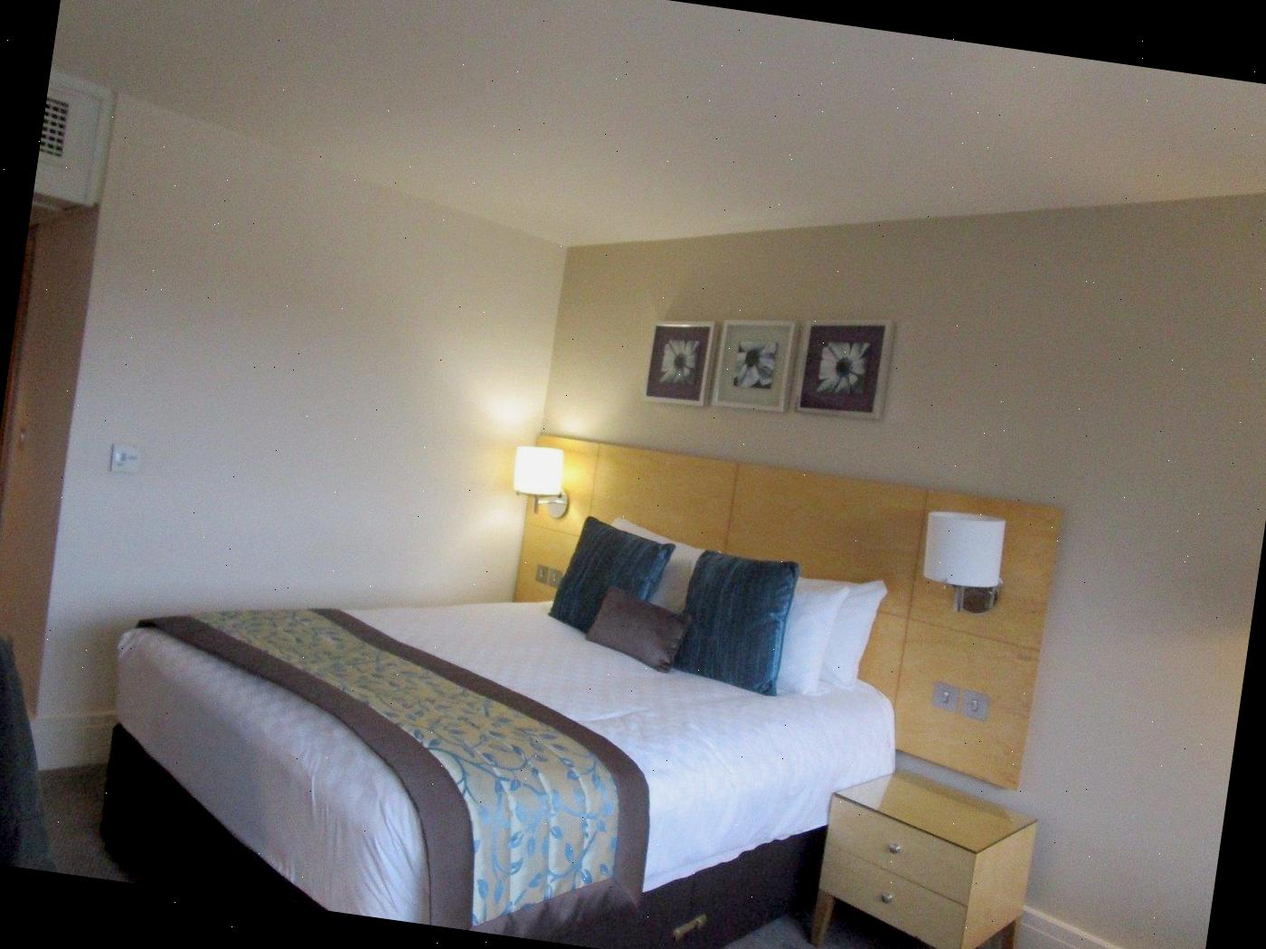clean_bed: (109, 500, 896, 914)
lamp: (902, 495, 1037, 623), (499, 437, 591, 522)
organised_pillow: (534, 511, 891, 700)
organized table: (796, 756, 1048, 949)
